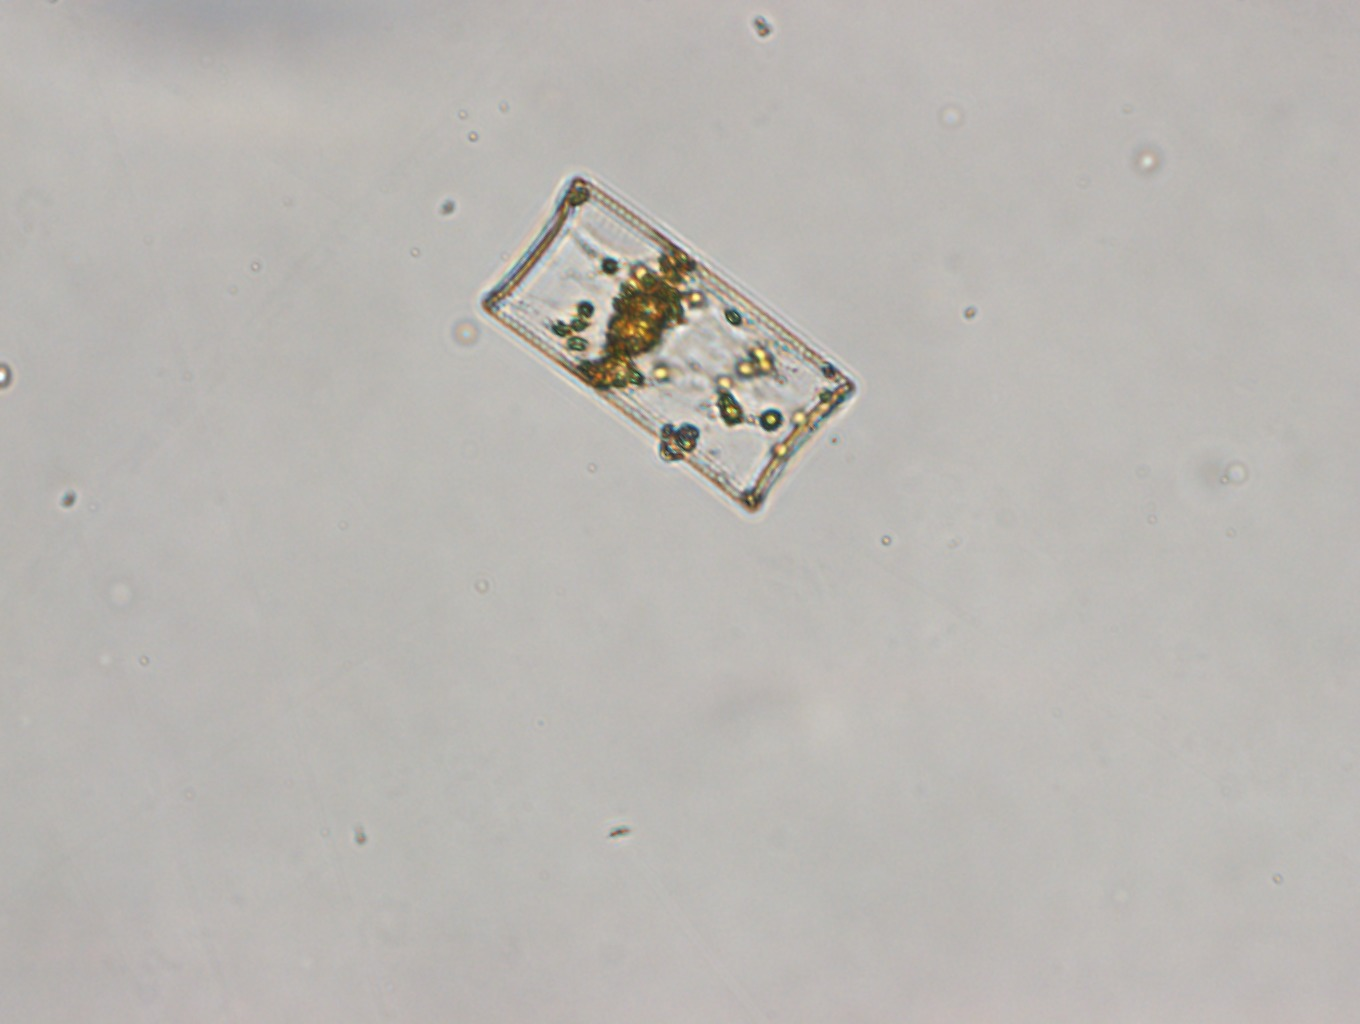guinardia flaccida: (477, 169, 858, 518)
